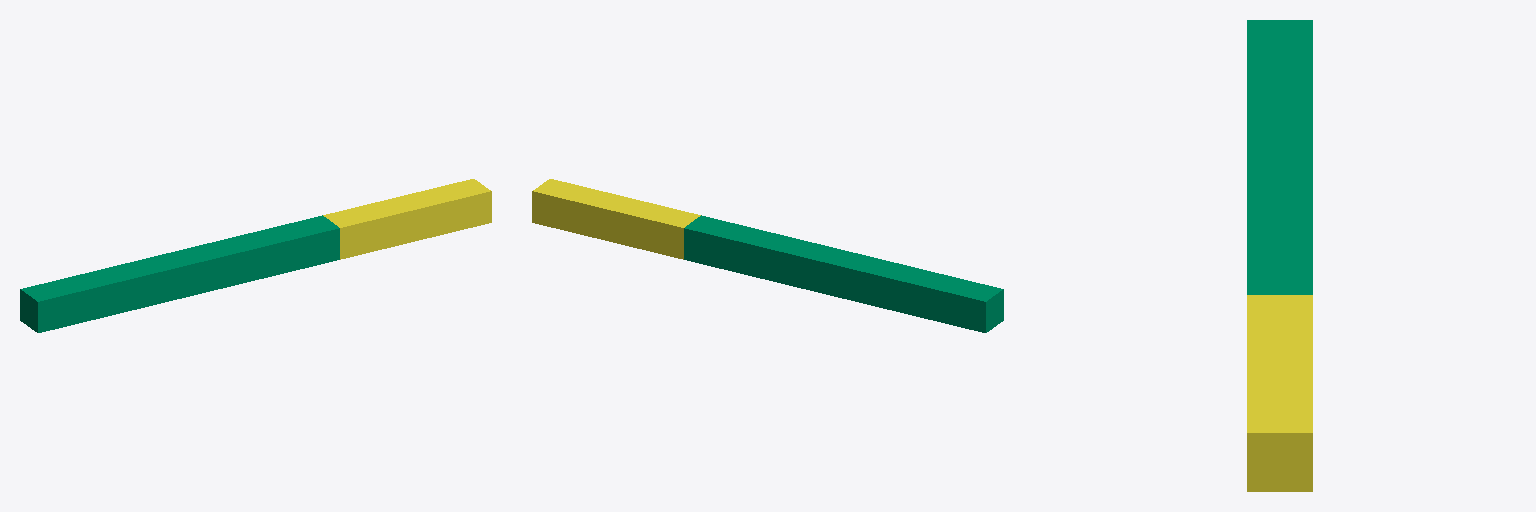
The robot description file, URDF, robot "2dof":
<?xml version="1.0" ?>
<robot name="2dof">

<link name="tool0"/>

<link name="base_link" />

<link name="link_1">
  <visual>
    <origin xyz="0.5 0 0" rpy="0 0 0"/>
    <geometry>
      <box size="1 0.1 0.1"/>
    </geometry>
  </visual>
</link>
<link name="link_2">
  <visual>
    <origin xyz="0.25 0 0" rpy="0 0 0"/>
    <geometry>
      <box size="0.5 0.1 0.1"/>
    </geometry>
  </visual>
</link>

<joint name="joint_1" type="revolute">
  <parent link="base_link" />
  <child link="link_1" />
  <limit effort="30" velocity="1.0" lower="-1.570795" upper="1.570795" />
  <origin xyz="0 0 0" rpy="0 0 0" />
  <axis xyz="0 0 1" />
</joint>
<joint name="joint_2" type="revolute">
  <parent link="link_1" />
  <child link="link_2" />
  <limit effort="30" velocity="1.0" lower="-1.570795" upper="1.570795" />
  <origin xyz="1 0 0" rpy="0 0 0" />
  <axis xyz="0 0 1" />
</joint>

<joint name="joint_3" type="revolute">
  <parent link="link_2" />
  <child link="tool0" />
  <limit effort="30" velocity="1.0" lower="-0.1" upper="0.1" />
  <origin xyz="0.5 0 0" rpy="0 0 0" />
  <axis xyz="0 0 1" />
</joint>
</robot>

--- What the picture shows (computed from the rendered views, not written in the file) ---
Views: 3 orthographic renders of the robot side by side, from view 1: azimuth 30°, elevation 25°; view 2: azimuth 150°, elevation 25°; view 3: azimuth 270°, elevation 25°.
Robot: 2dof — 4 links, 3 joints (3 revolute); root link base_link; default pose: all joints at 0.
Links seen in each view (by area): view 1: link_1, link_2; view 2: link_1, link_2; view 3: link_1, link_2.
Link boxes in pixels (box(x1,y1,x2,y2)): link_1: box(20, 215, 339, 332); link_2: box(323, 179, 491, 259); link_1: box(684, 215, 1003, 332); link_2: box(532, 179, 700, 259); link_1: box(1247, 20, 1312, 294); link_2: box(1247, 295, 1312, 491).
Bounding box of the posed robot: 1.5 × 0.1 × 0.1 m (x, y, z).
Geometry: primitives only (box / cylinder / sphere), no mesh files.